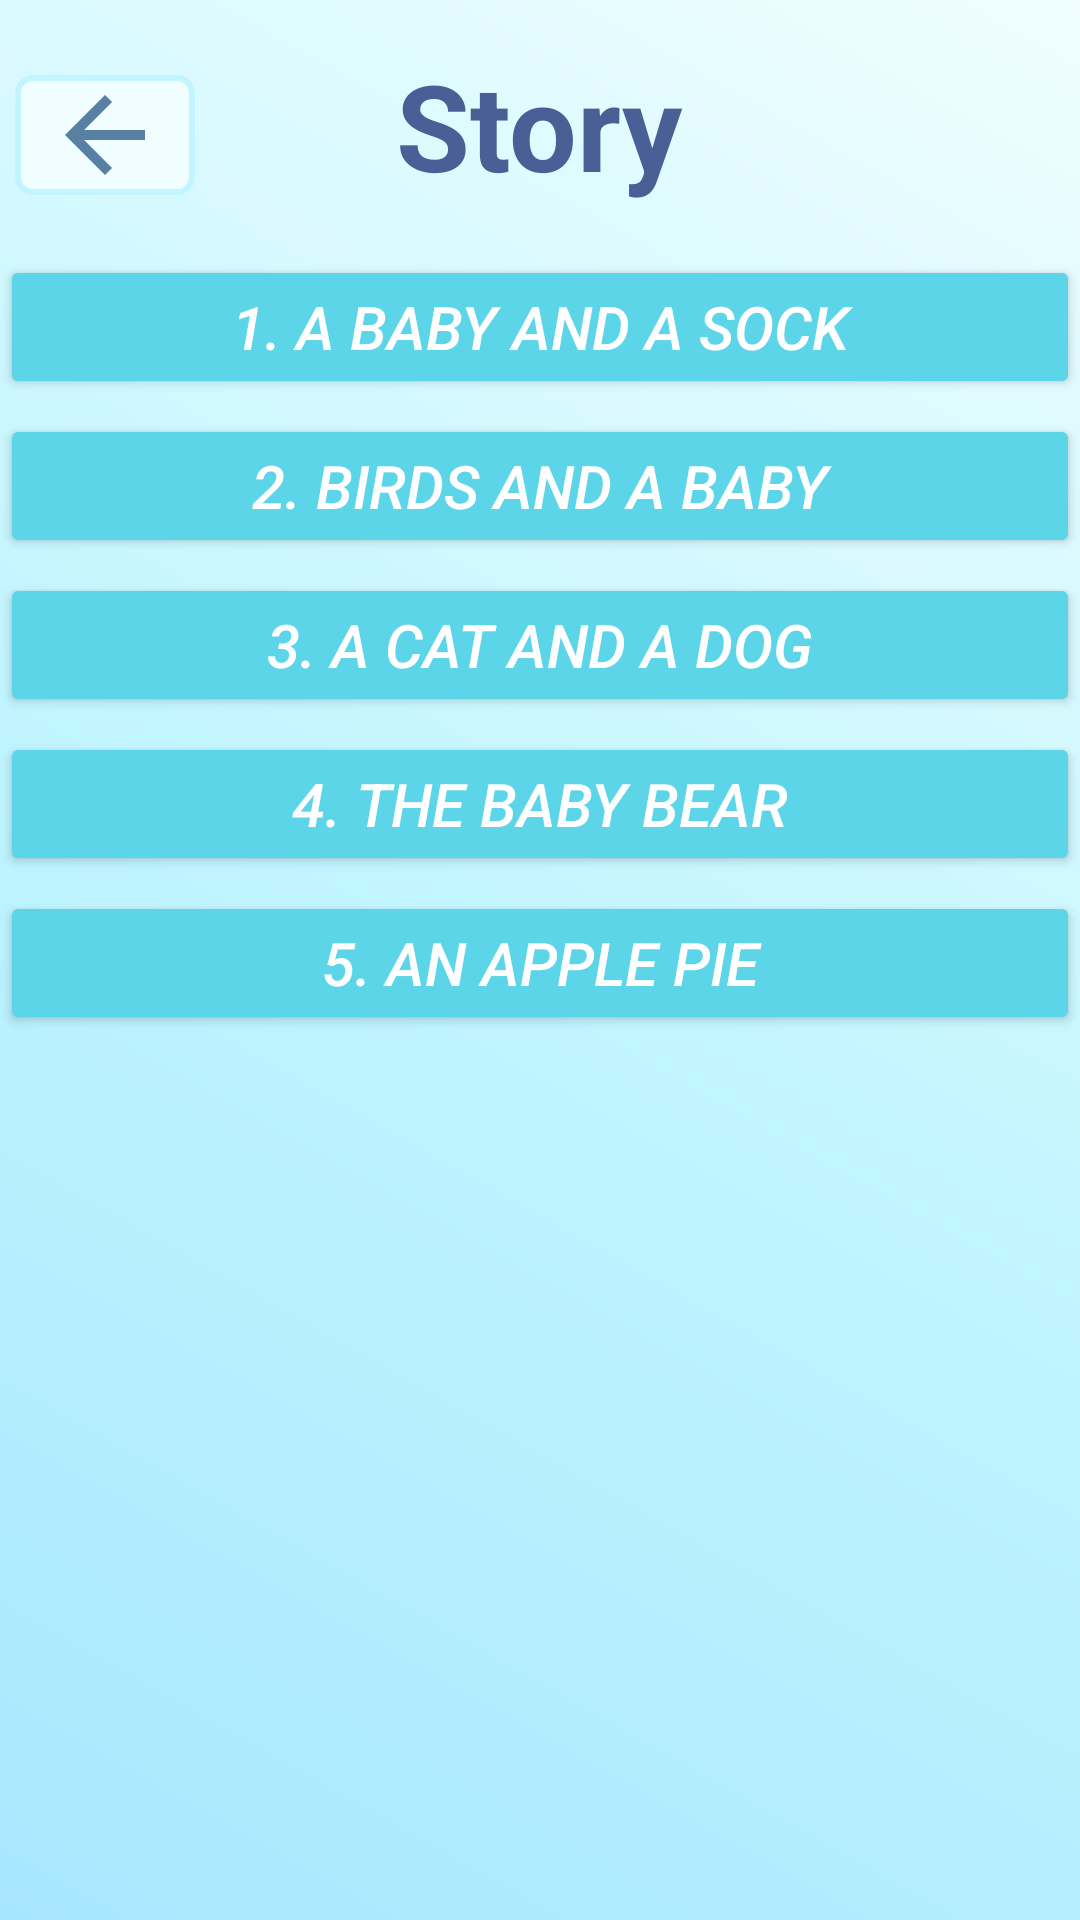

Icon click points for this 1080*1920 phone screenshot, format [x,y]:
back: [105,135]
